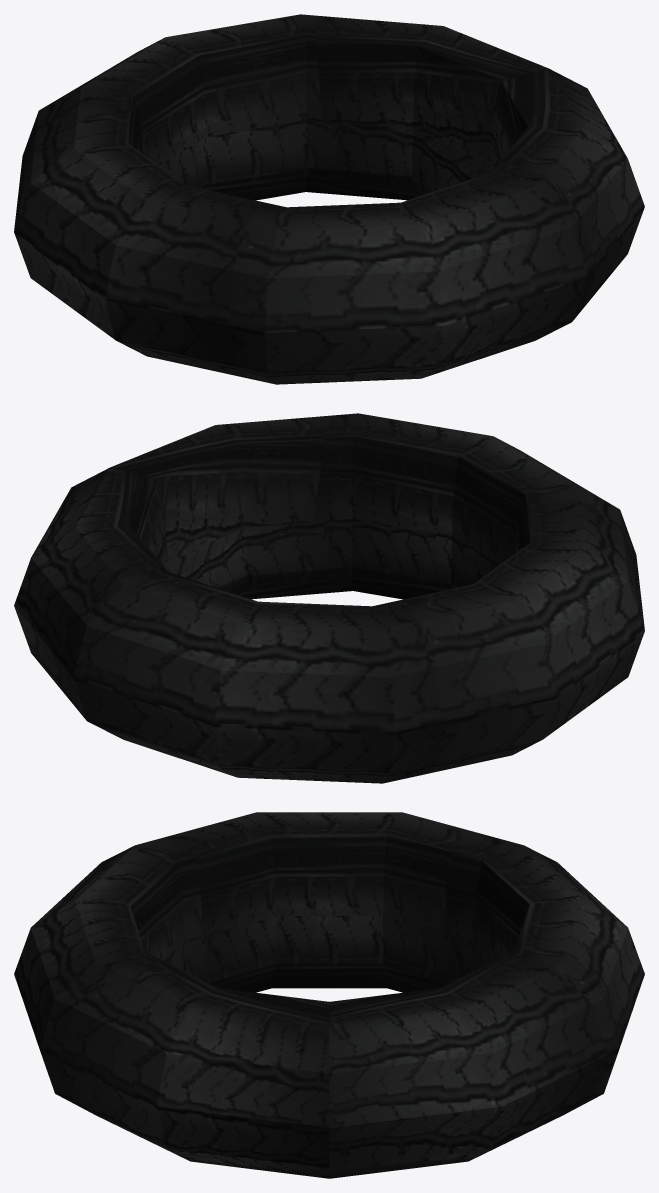
Rendered from tire.fbx.
The picture shows the model from 3 angles, top to bottom: view 1: azimuth 30°, elevation 25°; view 2: azimuth 150°, elevation 25°; view 3: azimuth 270°, elevation 25°; orthographic projection.
Visible parts, largest first — view 1: Torus; view 2: Torus; view 3: Torus.
Part boxes in pixels (x1,y1,x2,y2): Torus: (14, 14, 644, 384); Torus: (14, 413, 644, 783); Torus: (14, 812, 644, 1178).
Bounding box in the file's own units: 231 × 62.77 × 234.
